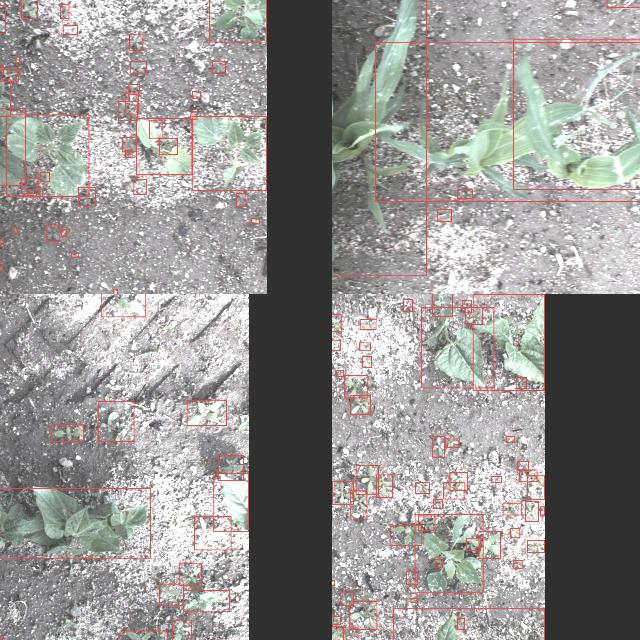crop: (374, 42, 640, 201), (332, 0, 427, 276), (514, 39, 640, 189), (0, 488, 150, 558), (473, 294, 545, 390), (5, 115, 89, 197), (422, 307, 494, 388), (193, 116, 267, 190), (393, 608, 545, 640), (136, 119, 192, 175), (214, 472, 248, 532), (0, 108, 25, 185)
weed: (415, 515, 483, 593), (209, 0, 266, 42), (98, 402, 134, 442), (194, 516, 232, 550), (187, 400, 227, 426), (102, 294, 146, 317), (184, 590, 230, 612), (349, 601, 376, 629), (390, 525, 422, 545), (218, 456, 244, 480), (356, 466, 378, 494), (479, 531, 501, 559), (51, 424, 83, 442), (158, 584, 184, 606), (180, 562, 202, 586), (344, 376, 368, 398), (349, 491, 366, 519), (332, 482, 353, 504), (433, 294, 453, 316), (120, 631, 168, 640), (172, 619, 191, 640), (376, 474, 392, 498), (528, 476, 544, 500), (0, 79, 10, 116), (350, 396, 370, 414), (444, 482, 464, 500), (119, 102, 138, 120), (450, 472, 468, 490), (158, 138, 178, 154), (125, 92, 139, 114), (78, 188, 95, 206), (21, 0, 37, 19), (20, 178, 38, 194), (466, 307, 482, 325), (149, 120, 163, 138), (46, 224, 60, 242), (526, 501, 538, 521), (433, 437, 445, 457), (607, 0, 640, 7), (129, 35, 143, 51), (122, 136, 136, 152), (419, 516, 435, 530), (503, 503, 521, 515), (519, 470, 537, 482), (0, 69, 17, 81), (130, 62, 146, 74), (528, 540, 544, 552), (341, 592, 354, 606), (134, 180, 146, 194), (437, 209, 451, 221), (466, 538, 480, 550), (332, 625, 343, 640), (332, 314, 341, 332), (360, 319, 376, 329), (444, 438, 460, 448), (212, 61, 225, 73), (343, 628, 356, 640), (415, 482, 429, 493), (0, 5, 5, 33), (407, 572, 418, 584), (62, 26, 78, 34), (456, 190, 472, 198), (236, 194, 246, 206), (128, 84, 140, 94), (462, 301, 472, 313), (60, 4, 68, 18), (28, 188, 42, 196), (362, 357, 372, 368), (403, 299, 412, 311), (40, 172, 50, 182), (510, 528, 520, 538), (516, 378, 526, 388), (518, 461, 528, 471), (359, 342, 371, 350), (433, 499, 442, 509), (332, 339, 340, 350), (332, 615, 340, 624), (458, 618, 464, 630), (514, 561, 522, 569), (434, 559, 442, 567), (492, 476, 502, 482), (192, 92, 200, 98), (126, 150, 132, 158), (251, 218, 259, 224), (507, 436, 515, 442), (60, 230, 66, 237), (541, 506, 545, 516), (190, 114, 196, 120), (336, 371, 342, 377), (0, 65, 3, 75), (192, 108, 198, 112), (13, 228, 17, 234), (72, 253, 78, 257), (411, 598, 417, 602), (0, 239, 3, 246), (113, 289, 117, 294), (15, 58, 19, 62)
